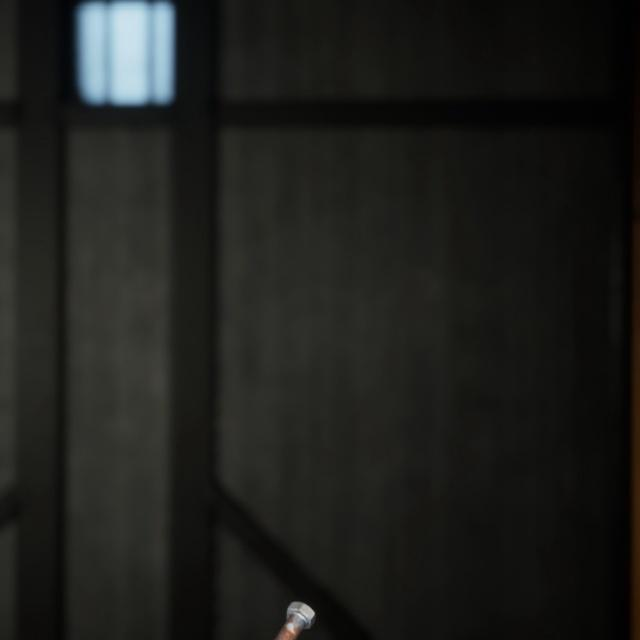bolt: (253, 573, 319, 640)
